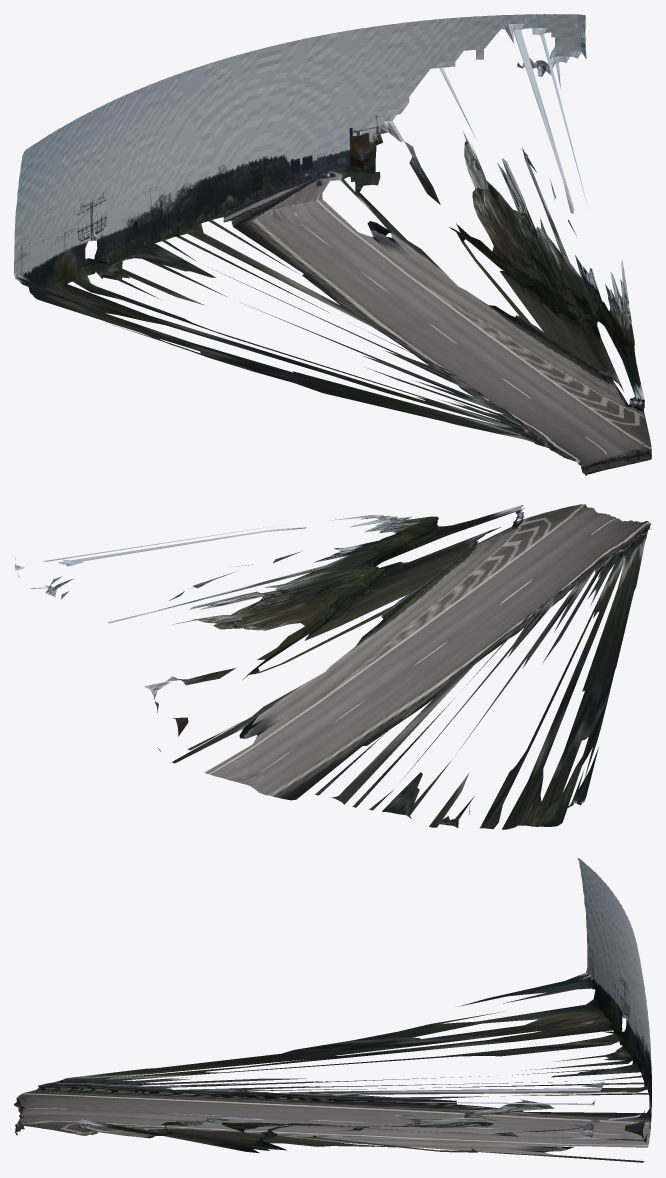
The picture shows the model from 3 angles, top to bottom: view 1: azimuth 30°, elevation 25°; view 2: azimuth 150°, elevation 25°; view 3: azimuth 270°, elevation 25°; orthographic projection. The views are drawn at different scales.
Parts seen in each view (by area): view 1: defaultobject; view 2: defaultobject; view 3: defaultobject.
Part boxes in pixels (<box>): defaultobject: <box>14,14,651,475</box>; defaultobject: <box>15,504,651,829</box>; defaultobject: <box>14,858,651,1162</box>.
Size of the model in its own units: 40.94 by 12.37 by 44.39.
1 material, 1 textured.
